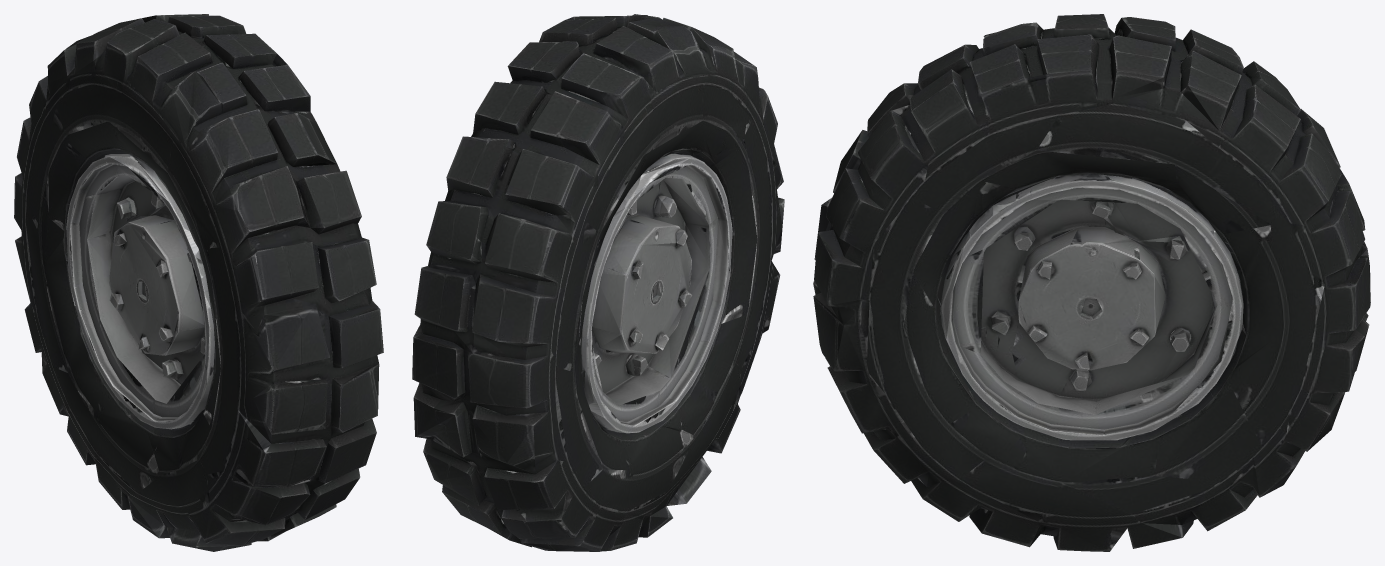
The model's file is shared_flight_deck_ordnance_tractor__wheel.glb.
3 renders of one model, left to right at view 1: azimuth 30°, elevation 25°; view 2: azimuth 150°, elevation 25°; view 3: azimuth 270°, elevation 25°, orthographic. The views are drawn at different scales.
Visible parts, largest first — view 1: mesh_node; view 2: mesh_node; view 3: mesh_node.
Boxes of the visible parts, bbox=[...] form: mesh_node: bbox=[14, 14, 383, 551]; mesh_node: bbox=[412, 14, 784, 551]; mesh_node: bbox=[813, 14, 1370, 551].
Size of the model in its own units: 0.2704 by 0.9296 by 0.9297.
1 material, 1 textured.
